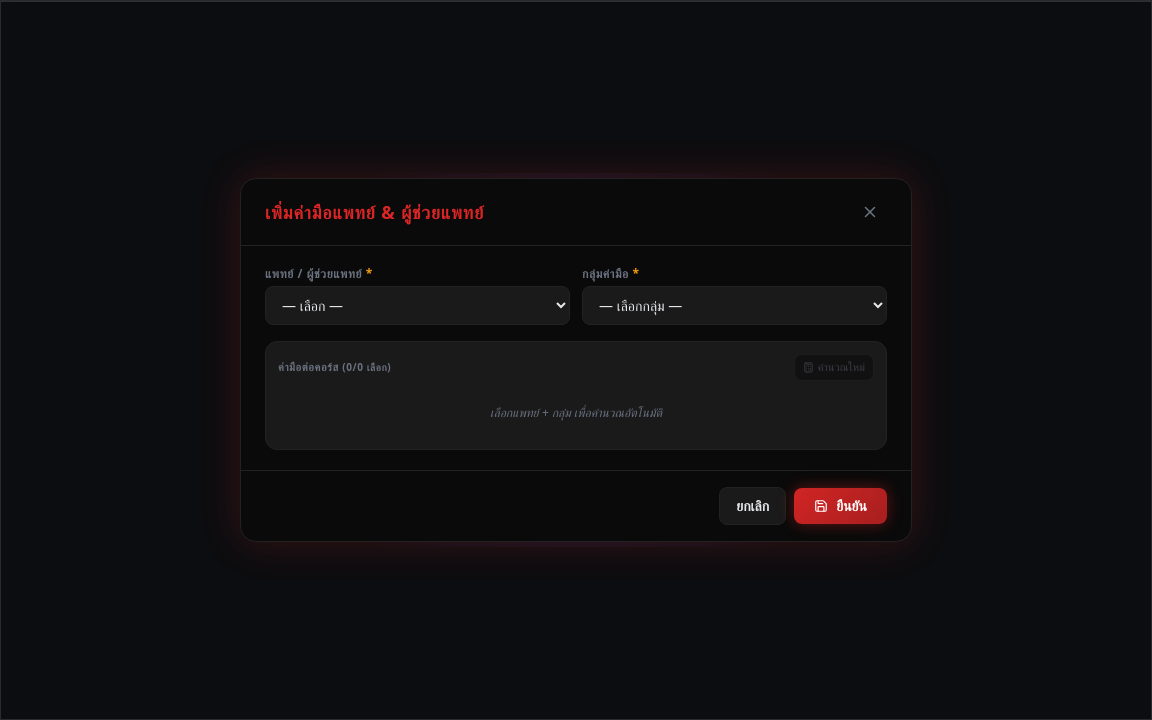
DfEntryModal — ADD mode › DFM8: "คำนวณใหม่" button re-runs resolver after manual edits
Select "หมอ A · แพทย์" in the dropdown below "แพทย์ / ผู้ช่วยแพทย์": {"x": 418, "y": 306} [265,286,570,325]
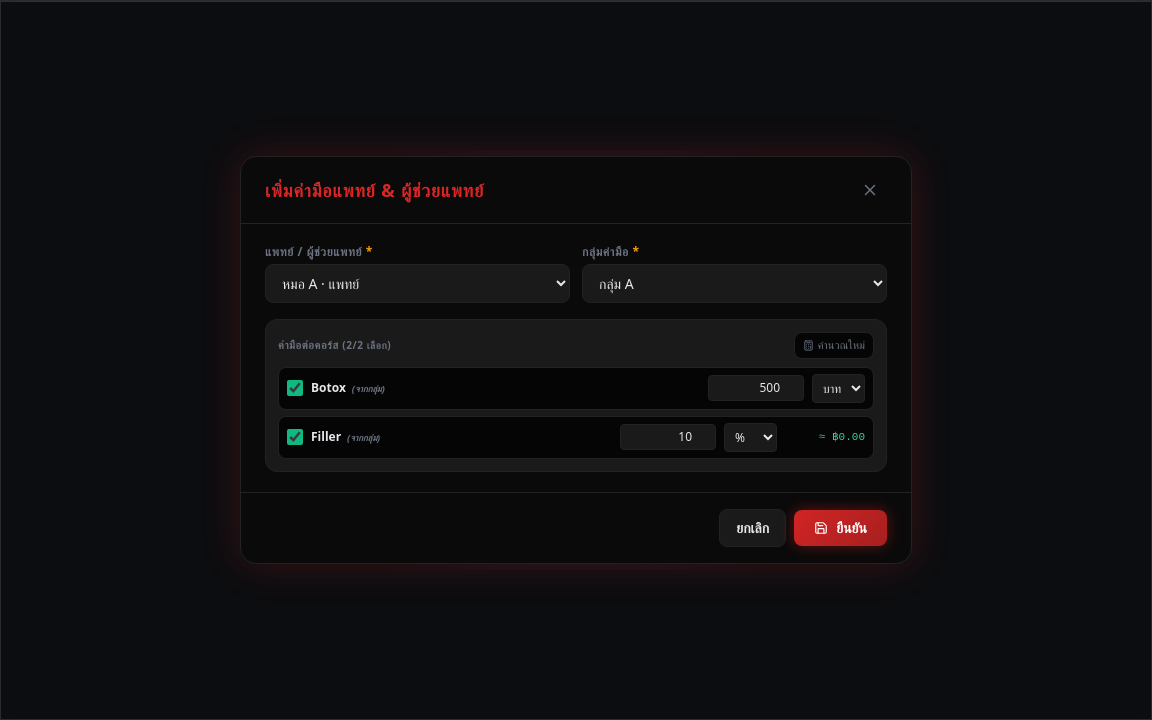
Expected: the number field in the row of "Botox" holds "500"
Edit the first row value to 999
Replace the text in the number field in the row of "Botox" with "999": {"x": 756, "y": 388} [708,375,804,401]
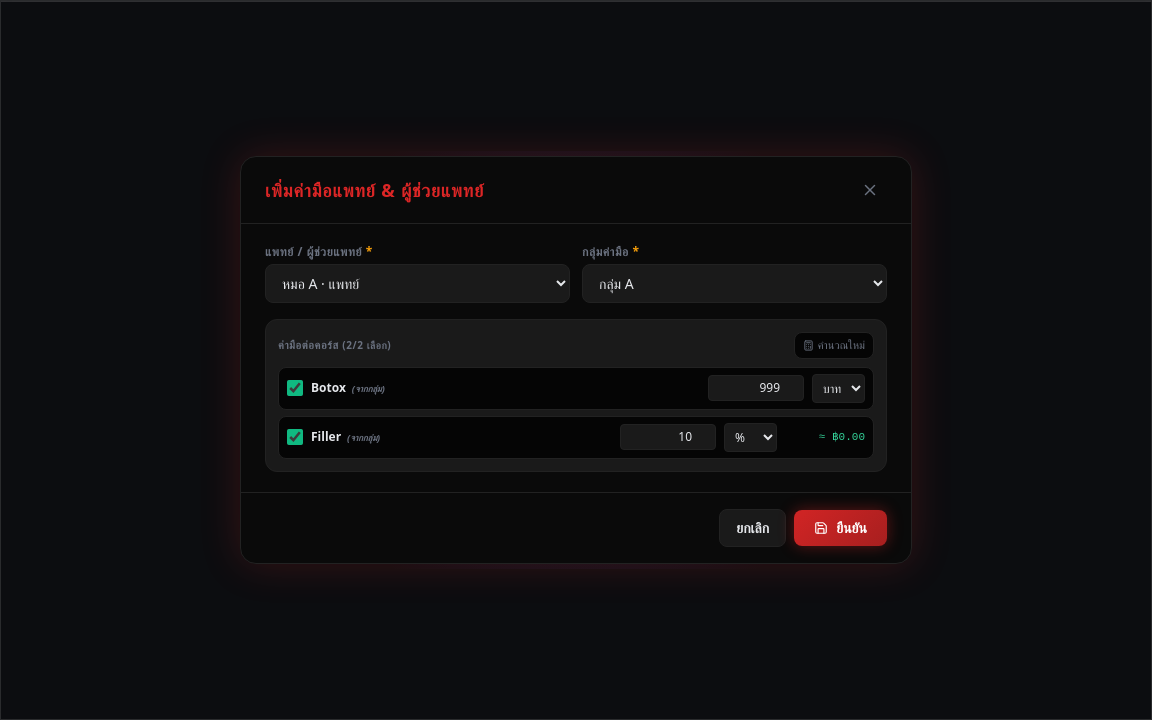
Click recalc
Click the button "คำนวณใหม่": {"x": 834, "y": 346} [794,332,874,359]
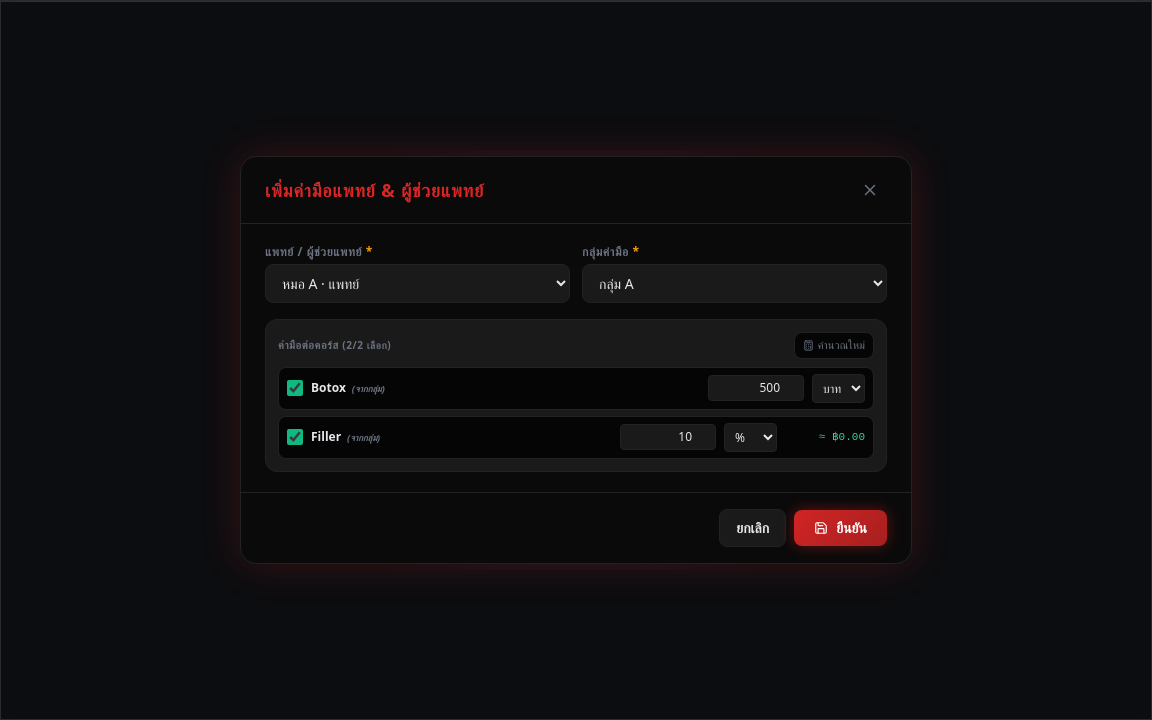
Expected: the number field in the row of "Botox" holds "500", [708,375,804,401]
